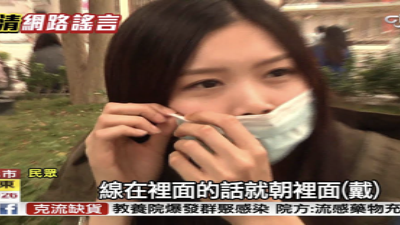mask_weared_incorrect: (169, 47, 319, 169)
